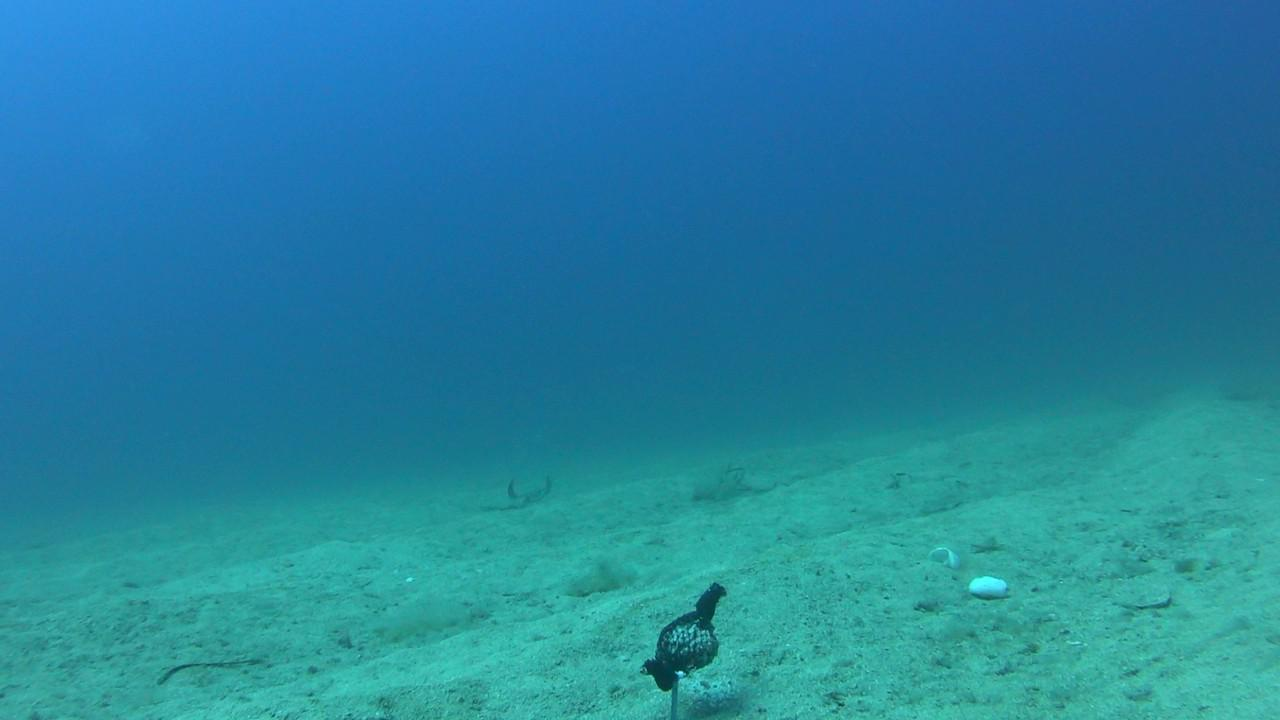myliobatis: (490, 465, 570, 512)
